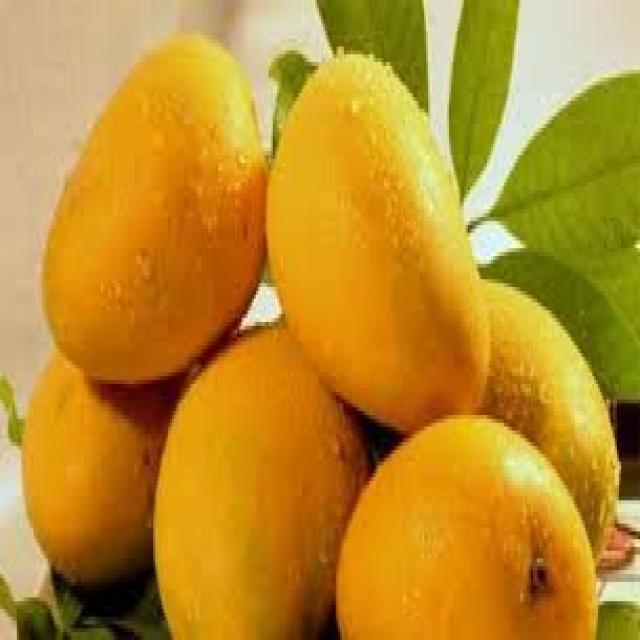Mango: (272, 52, 490, 428), (41, 28, 266, 374), (156, 327, 373, 640), (336, 415, 594, 640), (478, 279, 621, 563), (18, 348, 173, 584)
